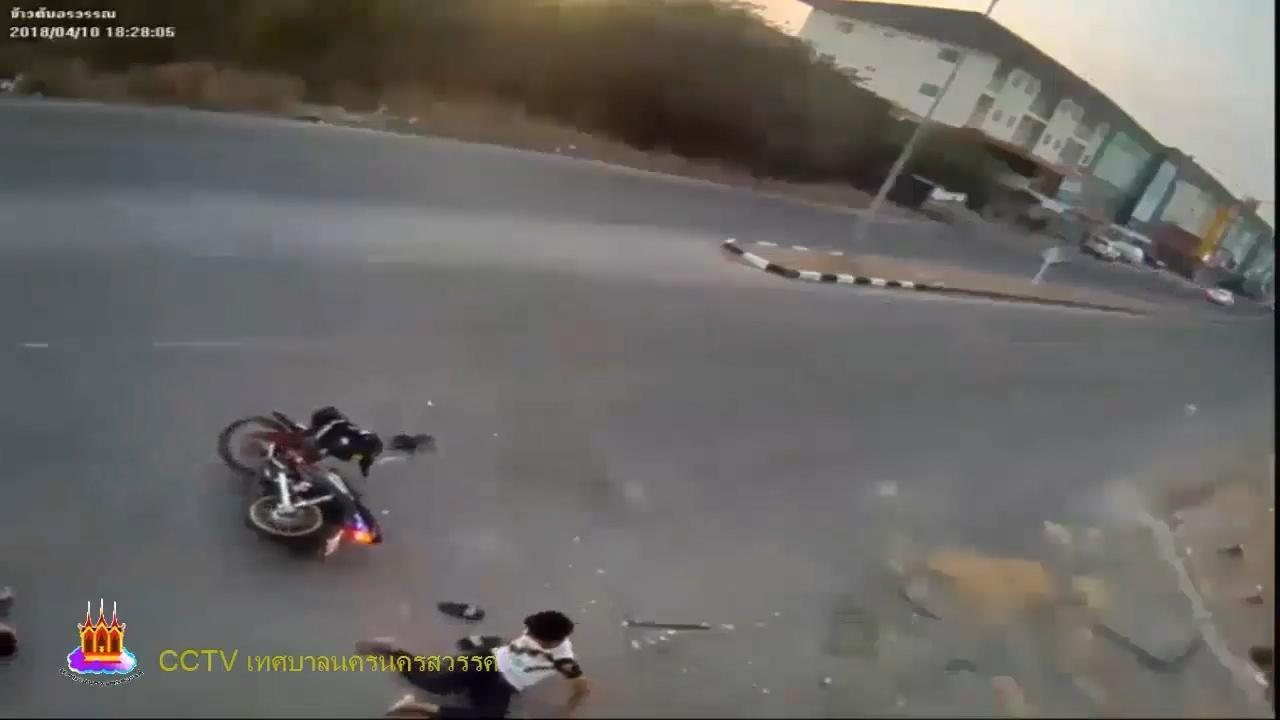accident: (352, 605, 588, 720)
